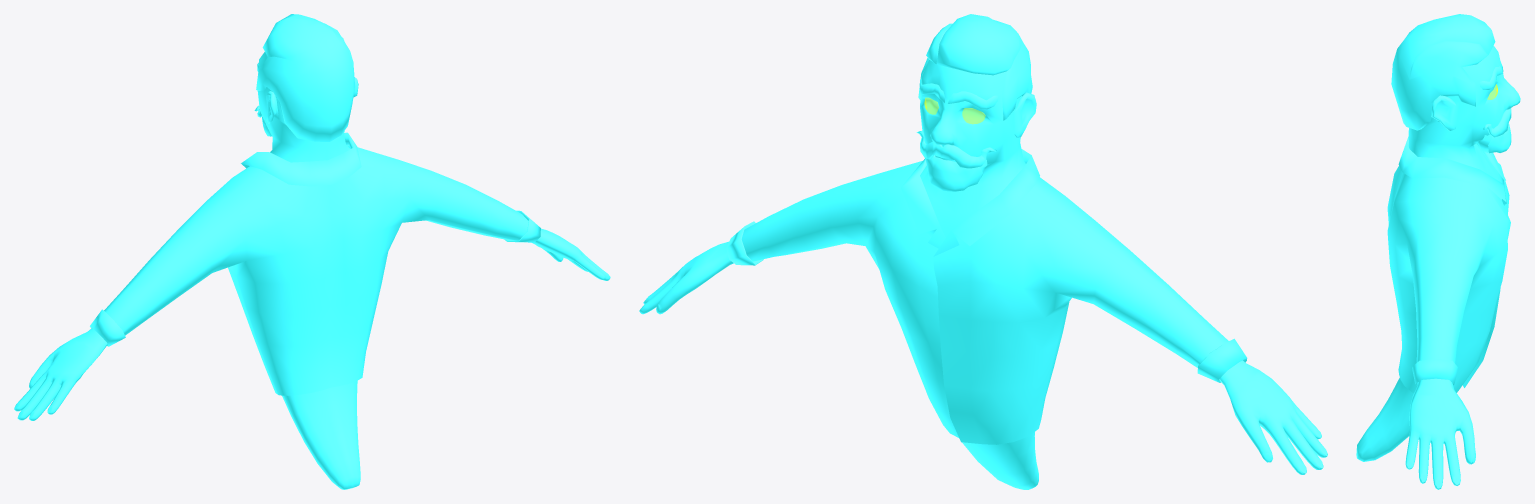
Rendered from Gerhard_Ghost_Test.fbx.
3 renders of one model, left to right at view 1: azimuth 30°, elevation 25°; view 2: azimuth 150°, elevation 25°; view 3: azimuth 270°, elevation 25°, orthographic. The views are drawn at different scales.
Parts seen in each view (by area): view 1: Gerhard_Ghost; view 2: Gerhard_Ghost; view 3: Gerhard_Ghost.
Boxes of the visible parts, x1,y1,x2,y2 form: Gerhard_Ghost: (14, 14, 610, 489); Gerhard_Ghost: (639, 14, 1327, 489); Gerhard_Ghost: (1356, 14, 1520, 489).
Bounding box in the file's own units: 143 × 34.1 × 101.
